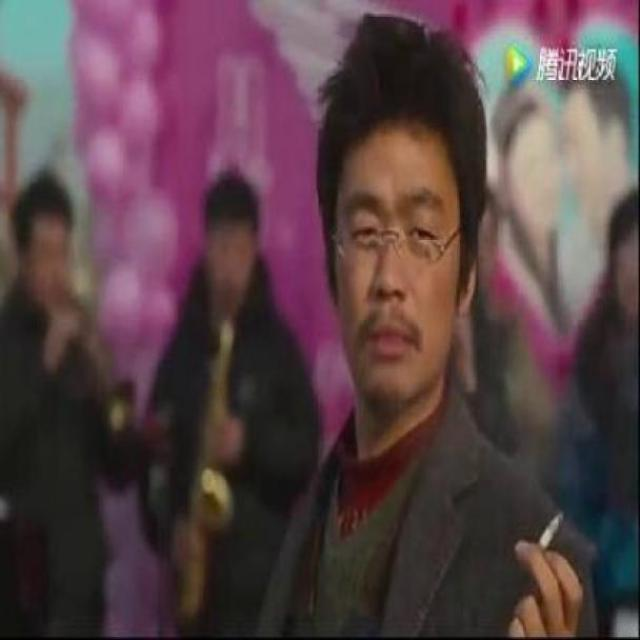rokok: (533, 505, 565, 559)
